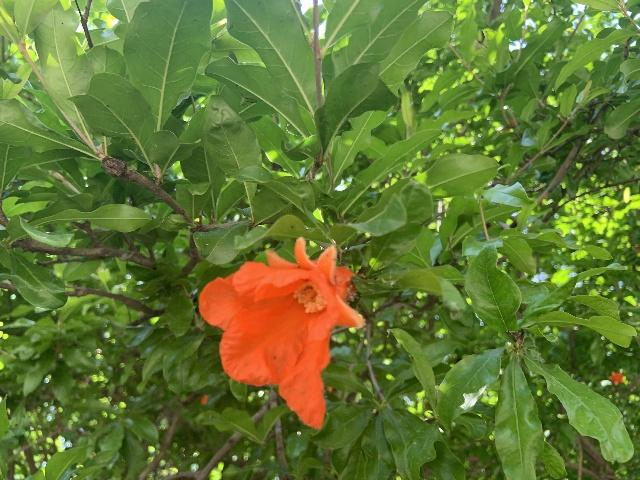flower: (198, 236, 364, 428), (608, 370, 624, 385)
